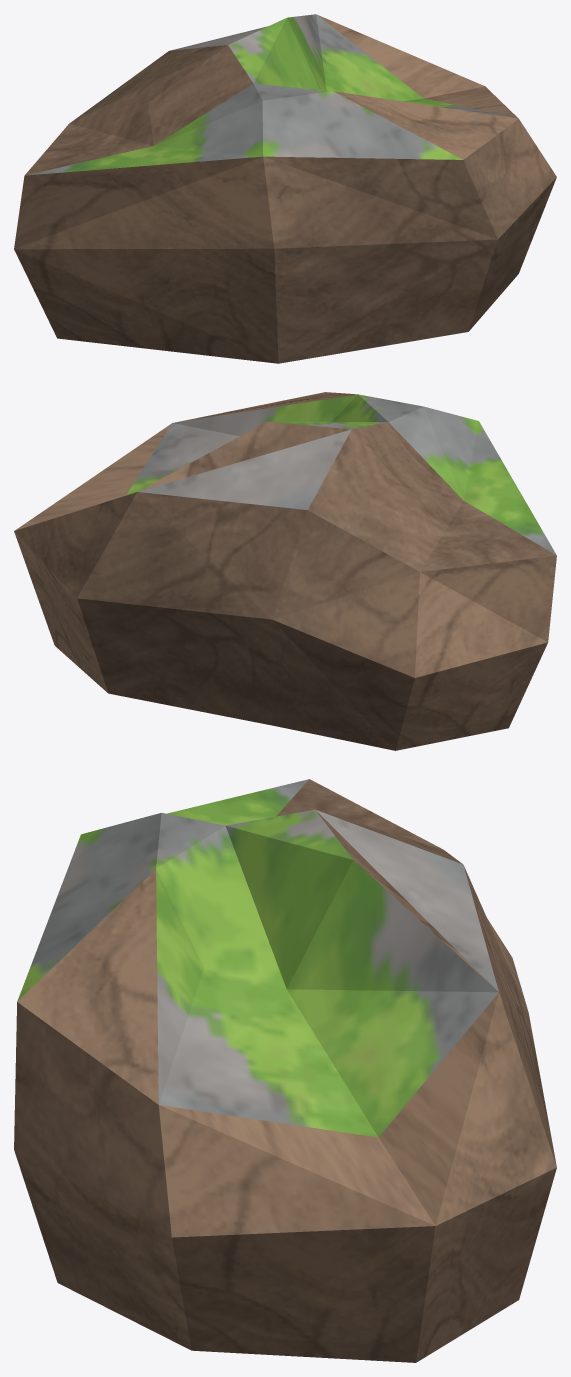
The model's file is Building_Rock_Plain_2.obj.
3 renders of one model, top to bottom at view 1: azimuth 30°, elevation 25°; view 2: azimuth 150°, elevation 25°; view 3: azimuth 270°, elevation 25°, orthographic. The views are drawn at different scales.
Parts seen in each view (by area): view 1: Building_Rock_Plain_2; view 2: Building_Rock_Plain_2; view 3: Building_Rock_Plain_2.
Boxes of the visible parts, bbox=[...] form: Building_Rock_Plain_2: bbox=[14, 14, 556, 363]; Building_Rock_Plain_2: bbox=[14, 392, 556, 750]; Building_Rock_Plain_2: bbox=[14, 779, 556, 1362].
Size of the model in its own units: 0.9142 by 0.445 by 0.5944.
Materials: 2 (2 with a texture image).
